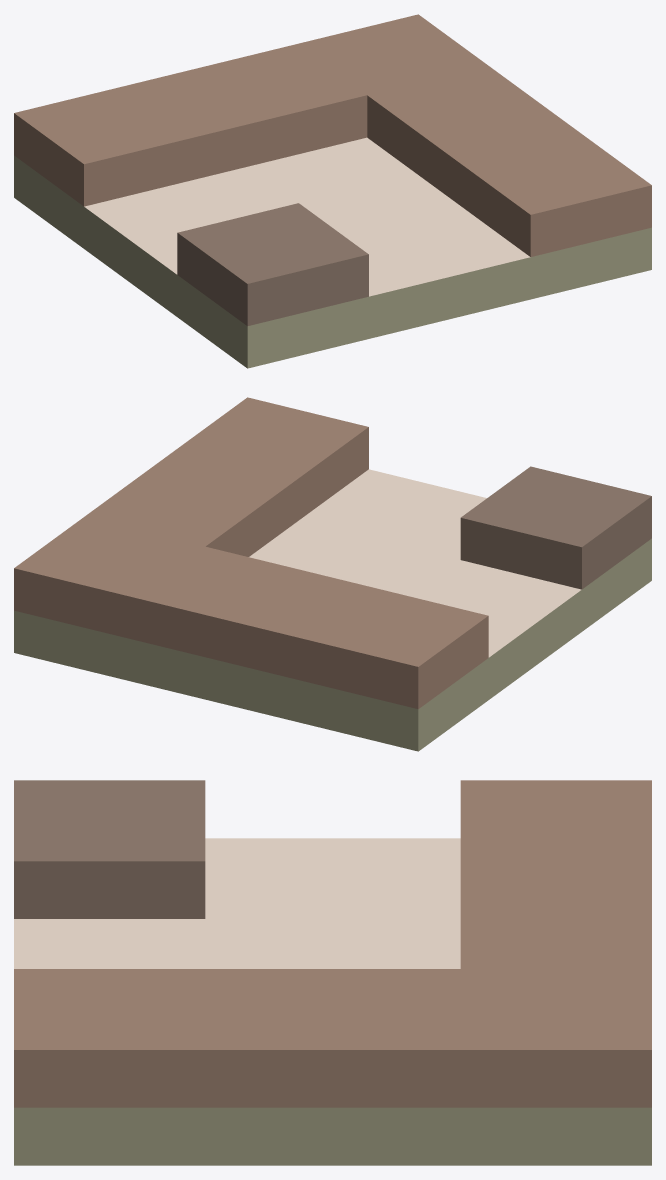
The model's file is LTile-transformed.glb.
3 renders of one model, top to bottom at view 1: azimuth 30°, elevation 25°; view 2: azimuth 150°, elevation 25°; view 3: azimuth 270°, elevation 25°, orthographic. The views are drawn at different scales.
Visible parts, largest first — view 1: flor_tile; view 2: flor_tile; view 3: flor_tile.
Boxes of the visible parts, <box> form: flor_tile: <box>14,14,651,368</box>; flor_tile: <box>14,397,651,751</box>; flor_tile: <box>14,780,651,1165</box>.
Size of the model in its own units: 2 by 0.4 by 2.
